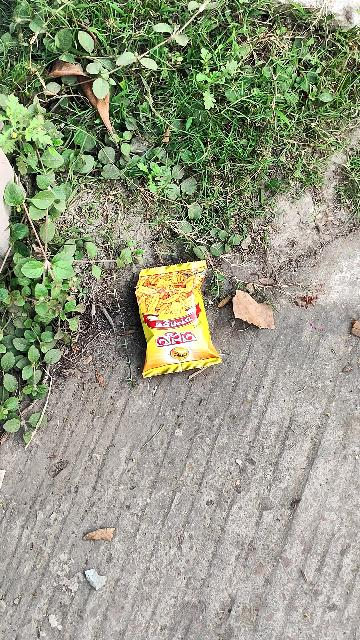packet: (117, 257, 232, 380)
